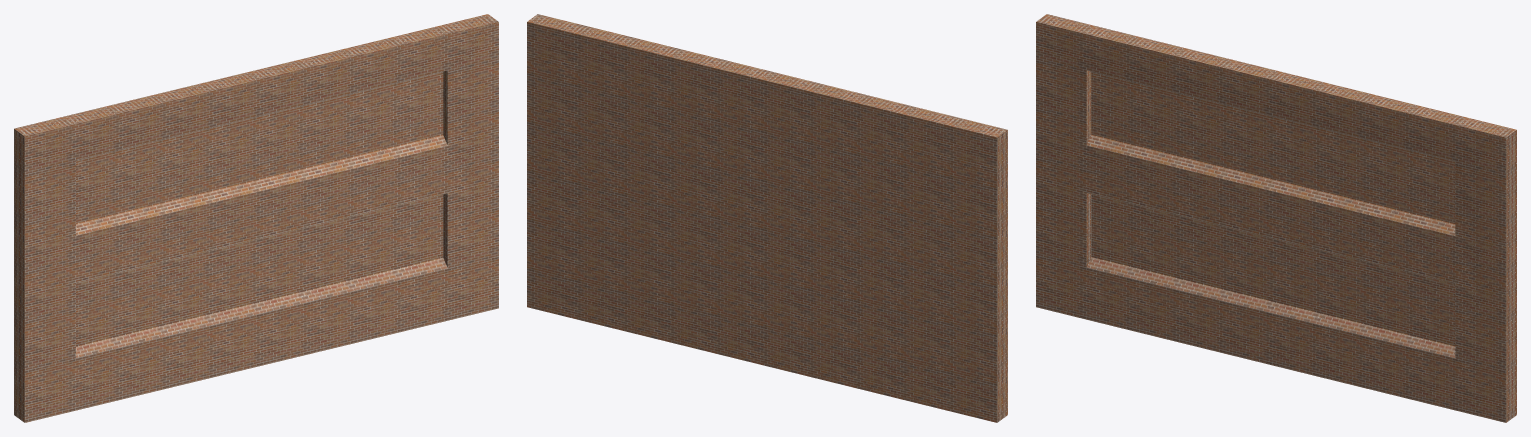
File: wall2.fbx
The picture shows the model from 3 angles, left to right: view 1: azimuth 30°, elevation 25°; view 2: azimuth 150°, elevation 25°; view 3: azimuth 330°, elevation 25°; orthographic projection.
Parts seen in each view (by area): view 1: polySurface45; view 2: polySurface45; view 3: polySurface45.
Part boxes in pixels (box(x1,y1,x2,y2)): polySurface45: box(14, 14, 498, 422); polySurface45: box(527, 14, 1007, 422); polySurface45: box(1036, 14, 1516, 422).
Size of the model in its own units: 21.09 by 12.21 by 0.9133.
